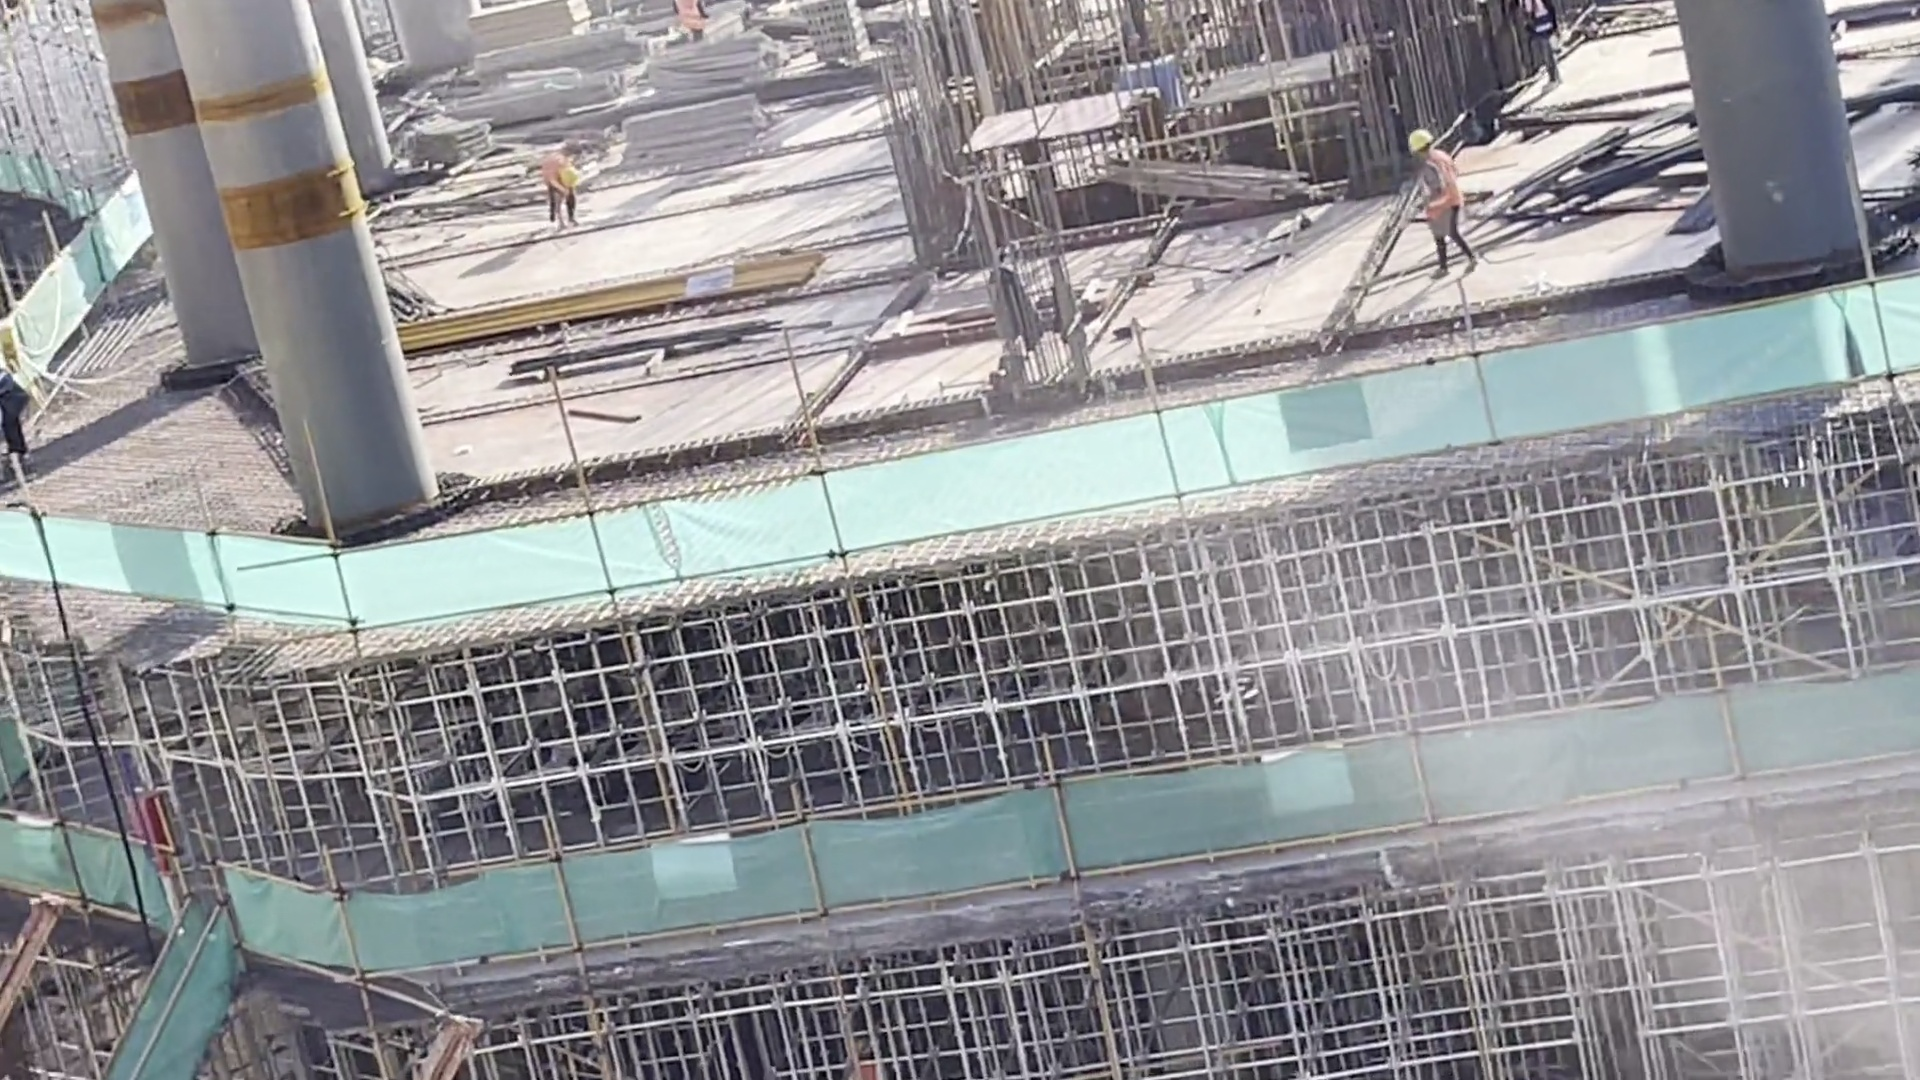board: (473, 1, 590, 37)
helmet: (1404, 129, 1436, 152), (559, 170, 576, 186)
person: (1401, 129, 1470, 280), (530, 143, 586, 237), (1510, 1, 1561, 88), (836, 1032, 890, 1080), (675, 1, 712, 45)
vest: (1422, 158, 1456, 215), (1520, 1, 1551, 34), (676, 3, 705, 34), (540, 152, 559, 179)
wood: (625, 109, 770, 151), (657, 47, 786, 88), (419, 119, 497, 168)
